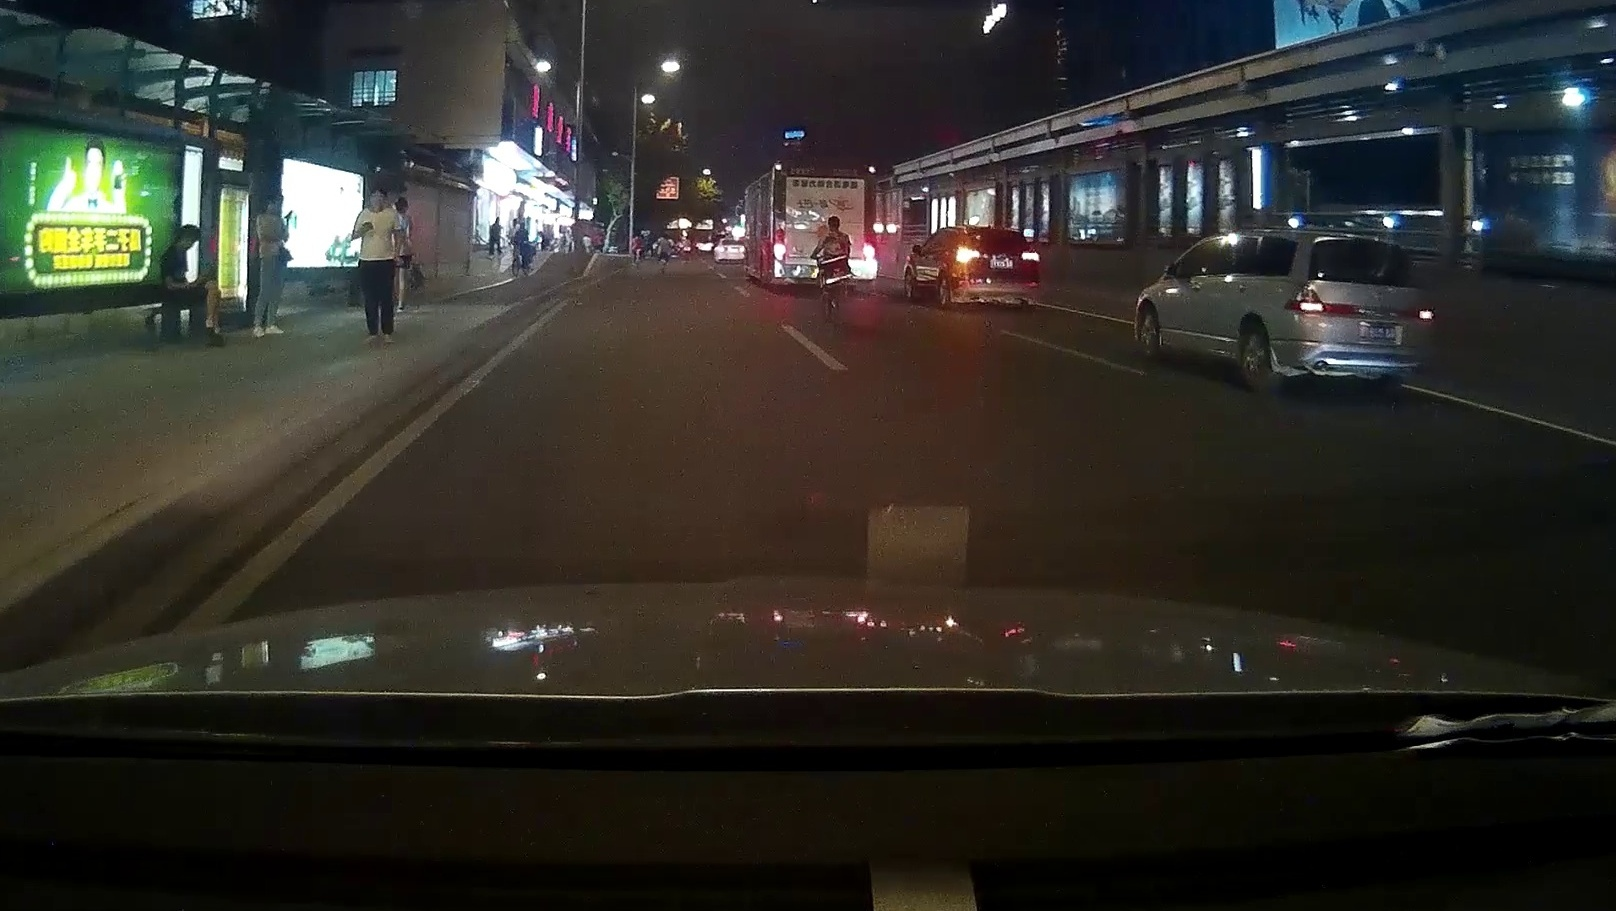L_light: (1283, 282, 1323, 312), (955, 246, 979, 264), (772, 229, 786, 259)
R_light: (1415, 301, 1433, 320), (863, 233, 876, 260), (1022, 250, 1040, 261)
T_light: (1349, 239, 1373, 245), (815, 171, 834, 178), (983, 230, 1001, 235)
night-left: (948, 224, 1041, 308)
night-no: (1281, 227, 1435, 398), (771, 158, 877, 290)
